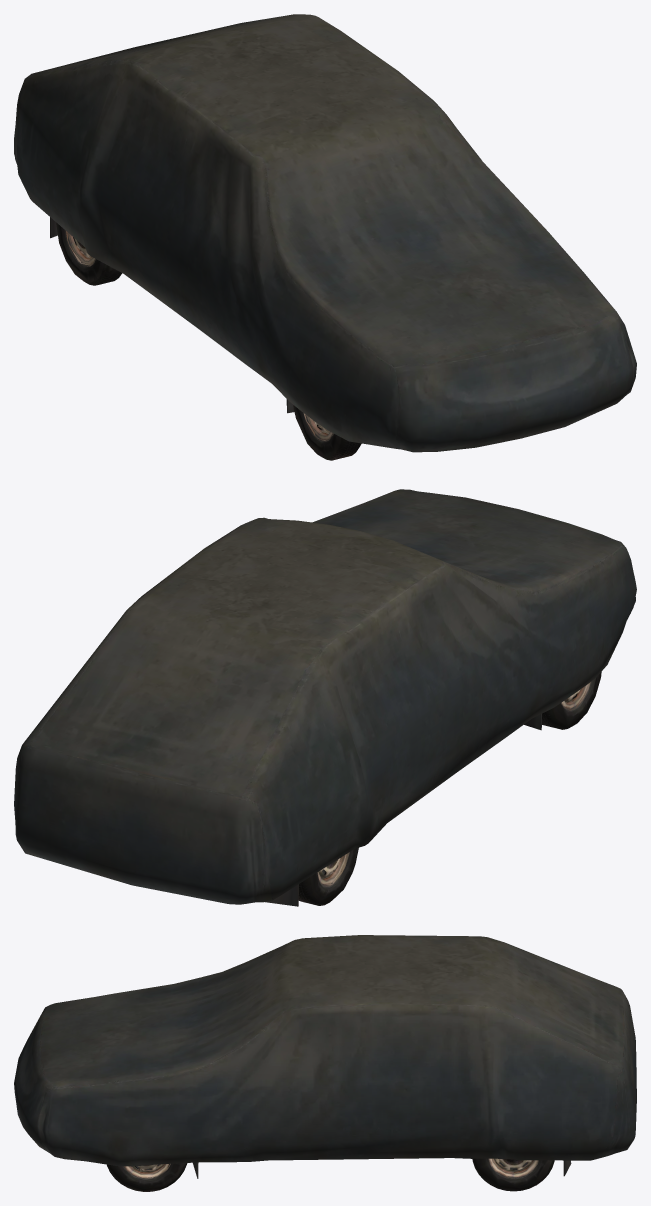
File: covered_car.glb
3 renders of one model, top to bottom at view 1: azimuth 30°, elevation 25°; view 2: azimuth 150°, elevation 25°; view 3: azimuth 270°, elevation 25°, orthographic. The views are drawn at different scales.
Parts seen in each view (by area): view 1: covered_car_wheel_01; view 2: covered_car_wheel_01; view 3: covered_car_wheel_01.
Part boxes in pixels (x1=…): covered_car_wheel_01: x1=14, y1=14, x2=636, y2=460; covered_car_wheel_01: x1=14, y1=489, x2=636, y2=906; covered_car_wheel_01: x1=14, y1=935, x2=636, y2=1191.
Bounding box in the file's own units: 1.79 × 1.41 × 4.38.
1 material, 1 textured.
